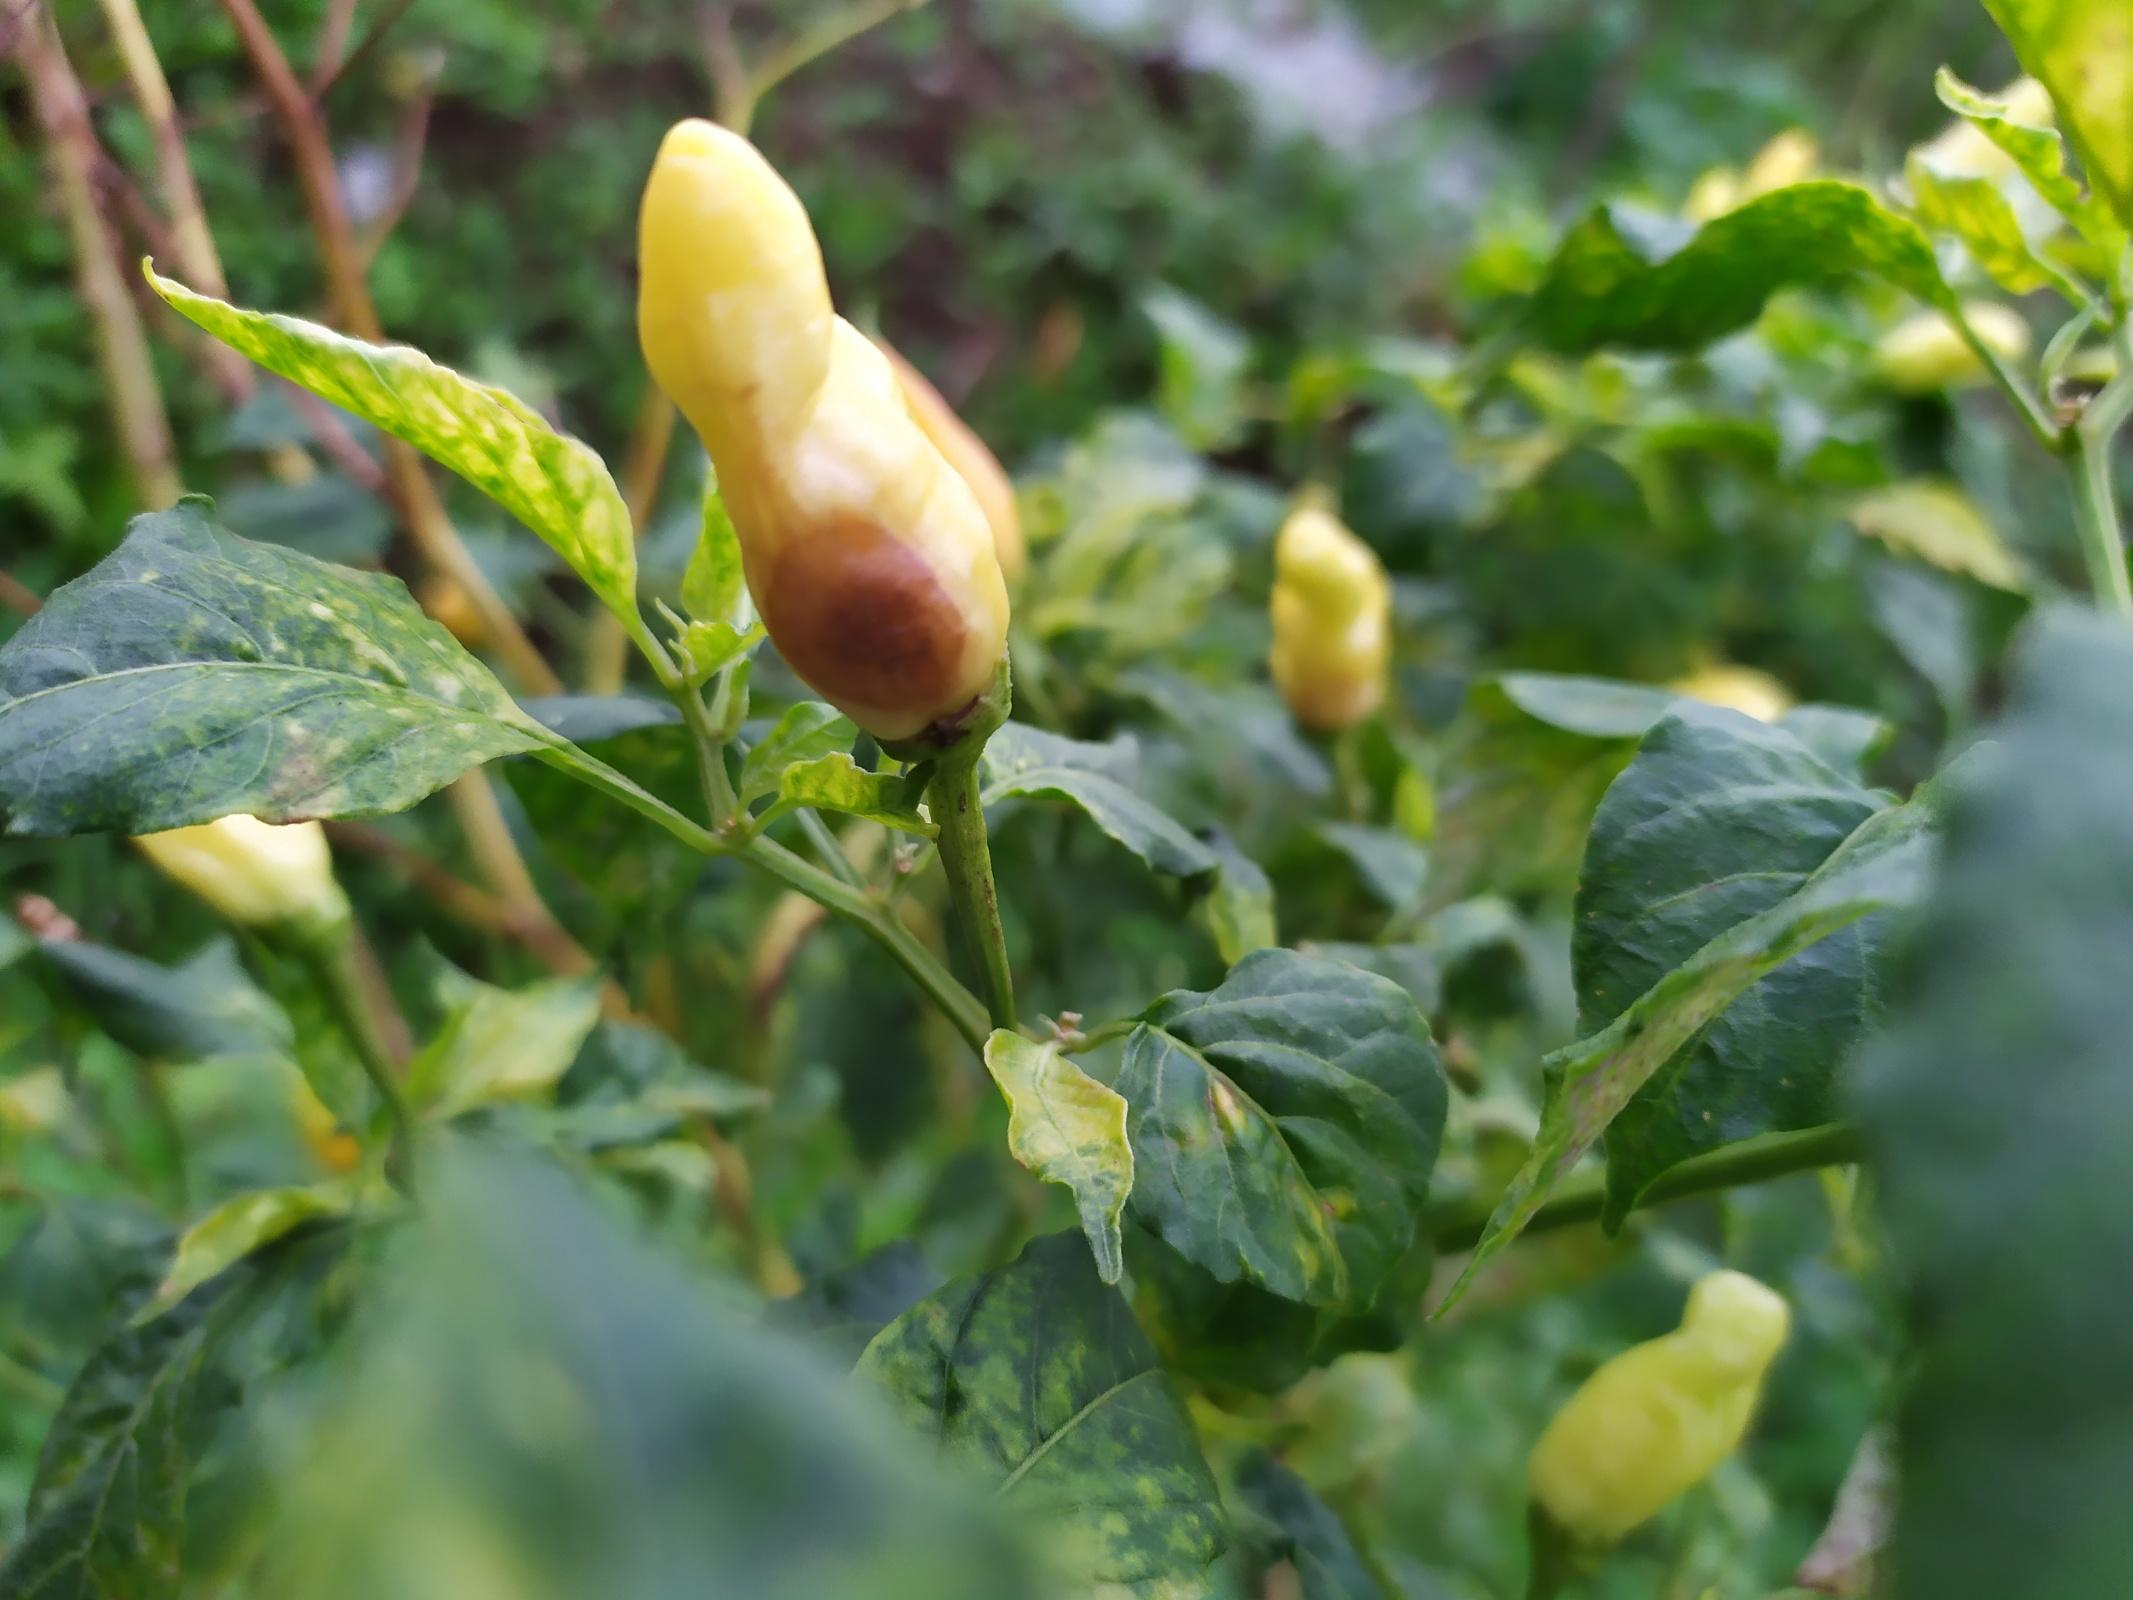antraknosa: (632, 114, 1015, 750)
cabai_normal: (1530, 1271, 1790, 1543), (1266, 508, 1393, 736)
